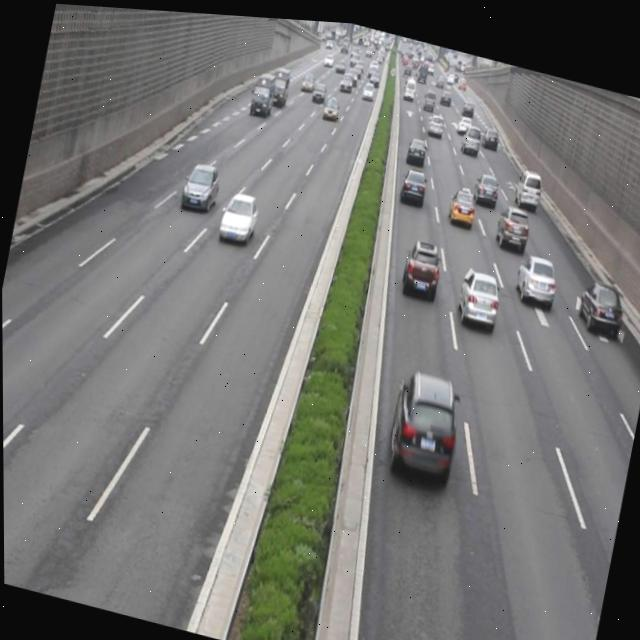car: (574, 268, 626, 331), (452, 259, 502, 322), (398, 229, 445, 294), (511, 243, 559, 301), (216, 182, 260, 243), (179, 155, 222, 214), (490, 194, 532, 248), (444, 177, 479, 226), (399, 160, 428, 201), (471, 162, 501, 200), (403, 128, 429, 162)
truck: (382, 360, 466, 481), (512, 159, 545, 205)
